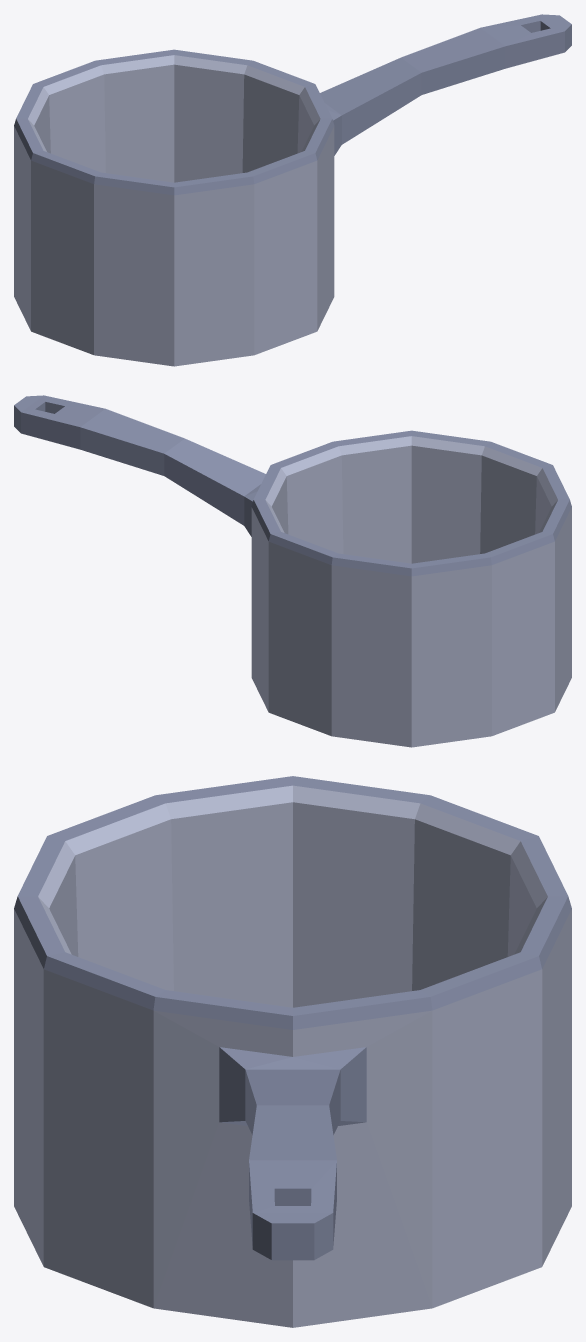
Rendered from HangingPot.FBX.
3 renders of one model, top to bottom at view 1: azimuth 30°, elevation 25°; view 2: azimuth 150°, elevation 25°; view 3: azimuth 270°, elevation 25°, orthographic. The views are drawn at different scales.
Parts seen in each view (by area): view 1: CookingPot_01; view 2: CookingPot_01; view 3: CookingPot_01.
Part boxes in pixels (left/top/right/bottom): CookingPot_01: left=14, top=14, right=571, bottom=366; CookingPot_01: left=14, top=395, right=571, bottom=747; CookingPot_01: left=14, top=776, right=571, bottom=1327.
Bounding box in the file's own units: 62.72 × 20.39 × 32.55.
